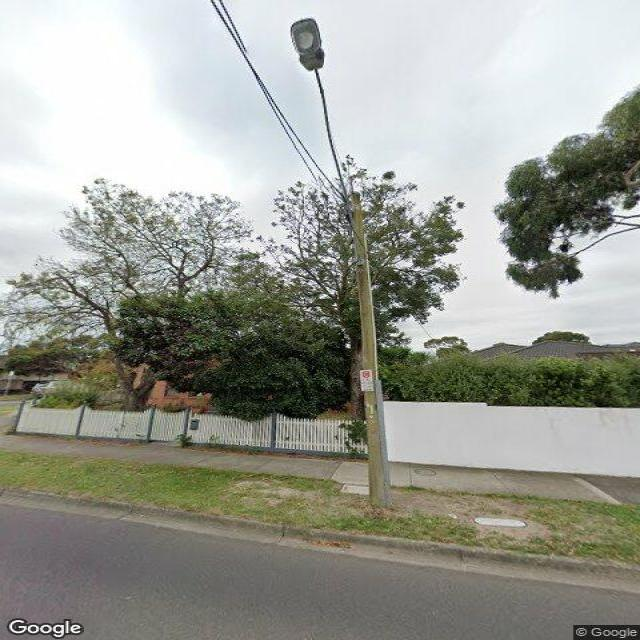streetlight: (288, 17, 352, 212)
timber-pole: (349, 191, 392, 508)
